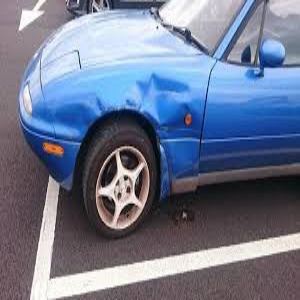bonnet: (87, 68, 199, 128)
